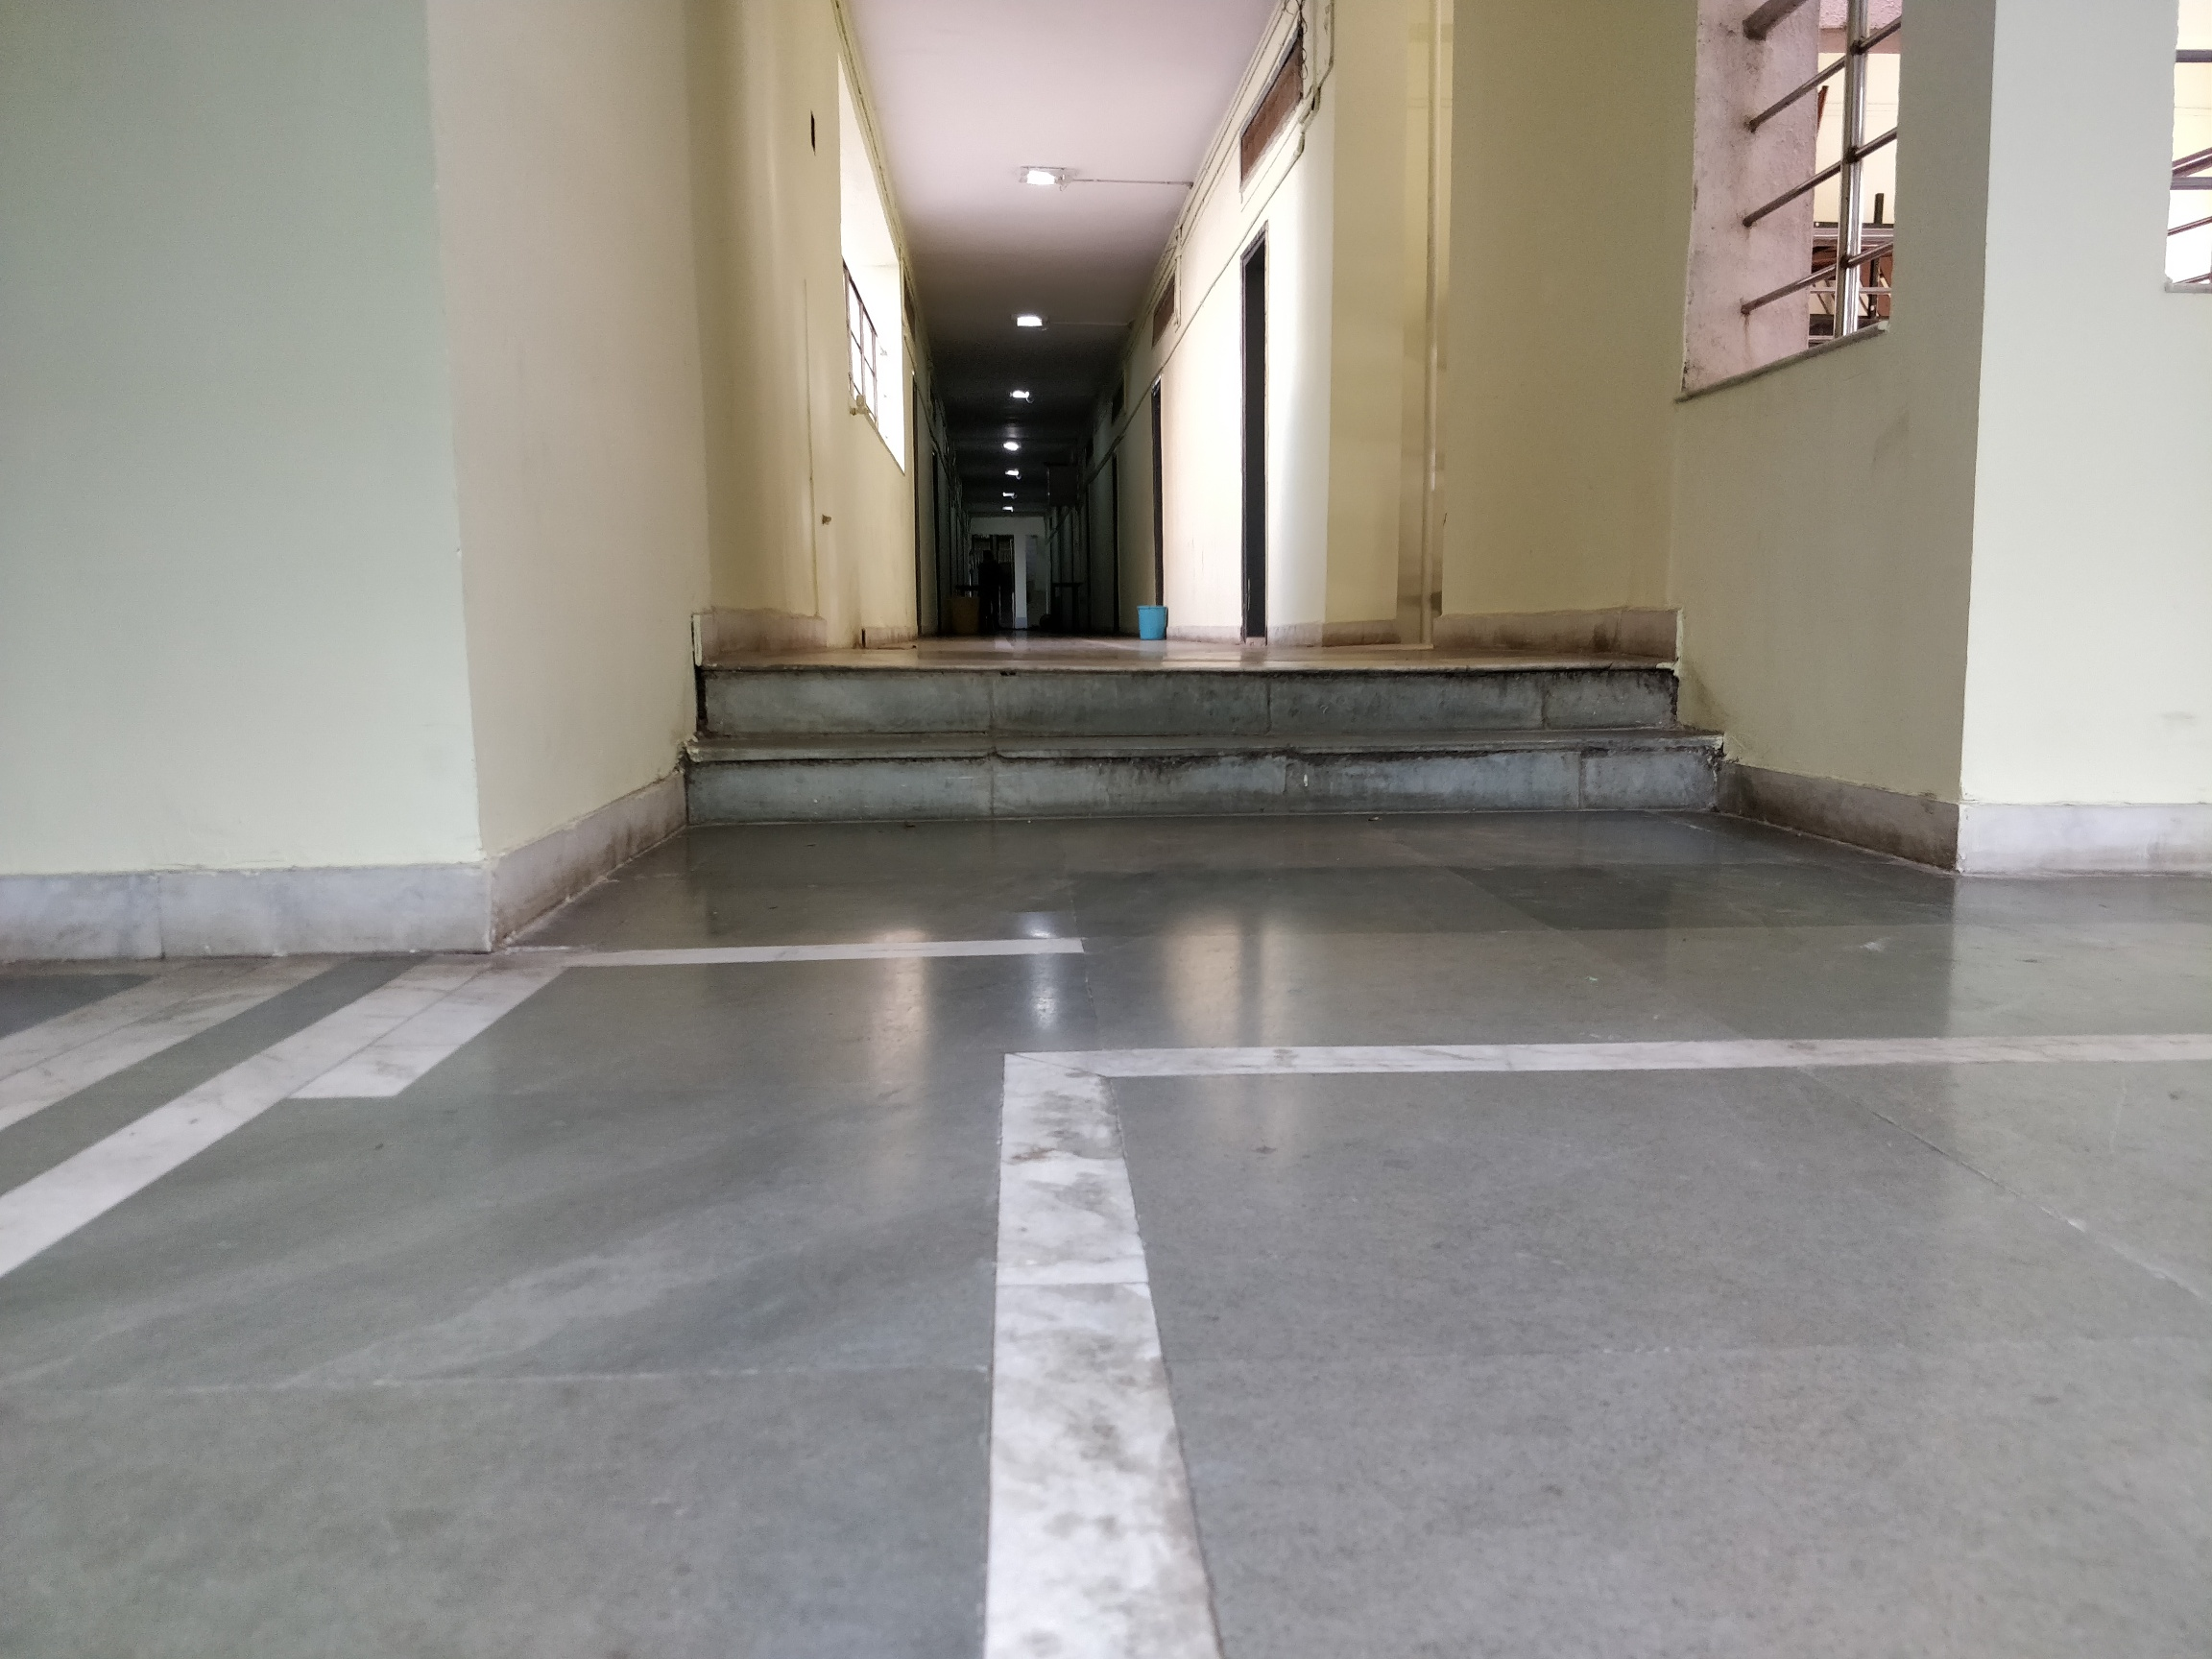stairs_up: (683, 657, 1689, 833)
